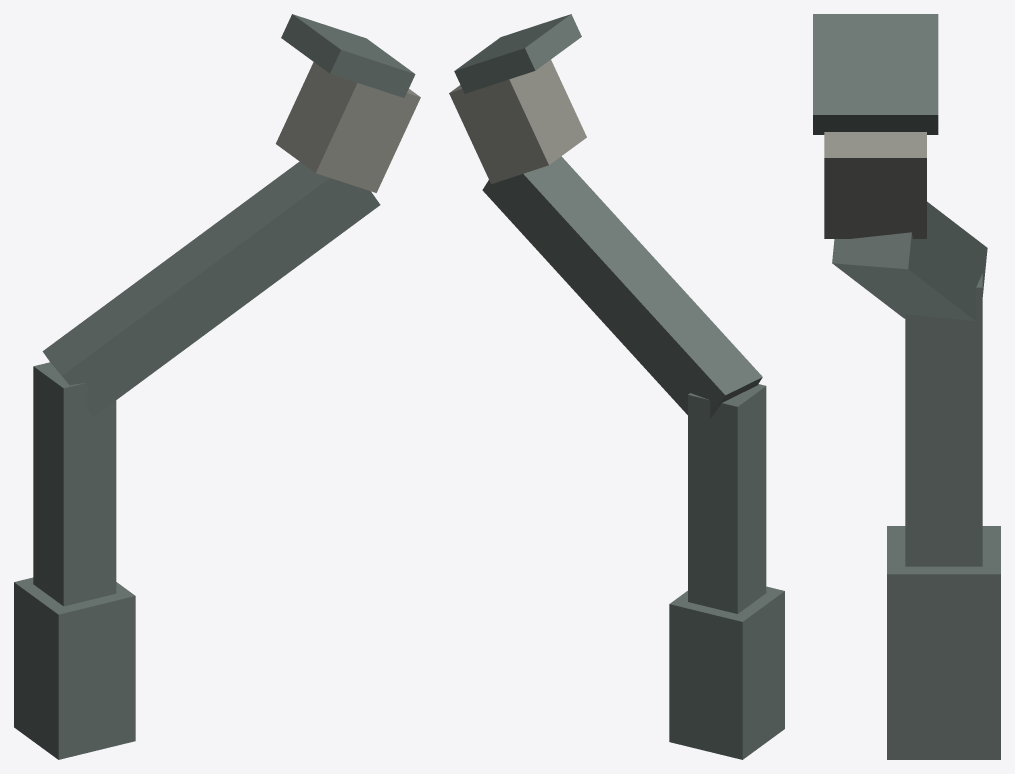
Rendered from SM_Farola_v3_LOD1.fbx.
The picture shows the model from 3 angles, left to right: view 1: azimuth 30°, elevation 25°; view 2: azimuth 150°, elevation 25°; view 3: azimuth 270°, elevation 25°; orthographic projection. The views are drawn at different scales.
Visible parts, largest first — view 1: SM_urbano_v8_LOD1; view 2: SM_urbano_v8_LOD1; view 3: SM_urbano_v8_LOD1.
Boxes of the visible parts, box(x1,y1,x2,y2) form: SM_urbano_v8_LOD1: box(14, 14, 420, 759); SM_urbano_v8_LOD1: box(449, 14, 784, 759); SM_urbano_v8_LOD1: box(813, 14, 1000, 759).
Bounding box in the file's own units: 2.19 × 4.15 × 0.825.
